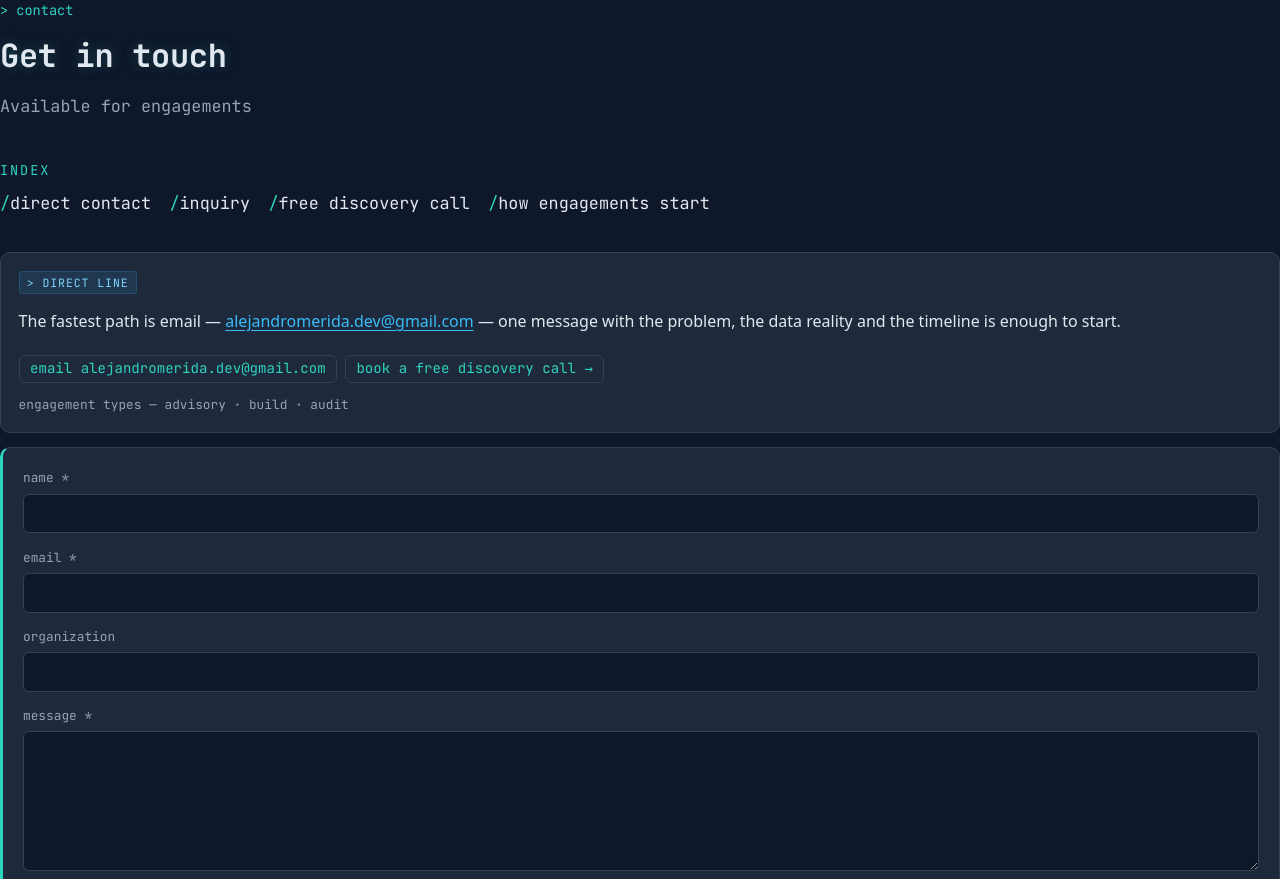
Scenario: Contact inquiry form › rejects an invalid email address and a too-short message
Type "Ada Lovelace" into the field labelled "name *" at point(641, 514), box [23, 494, 1259, 533]
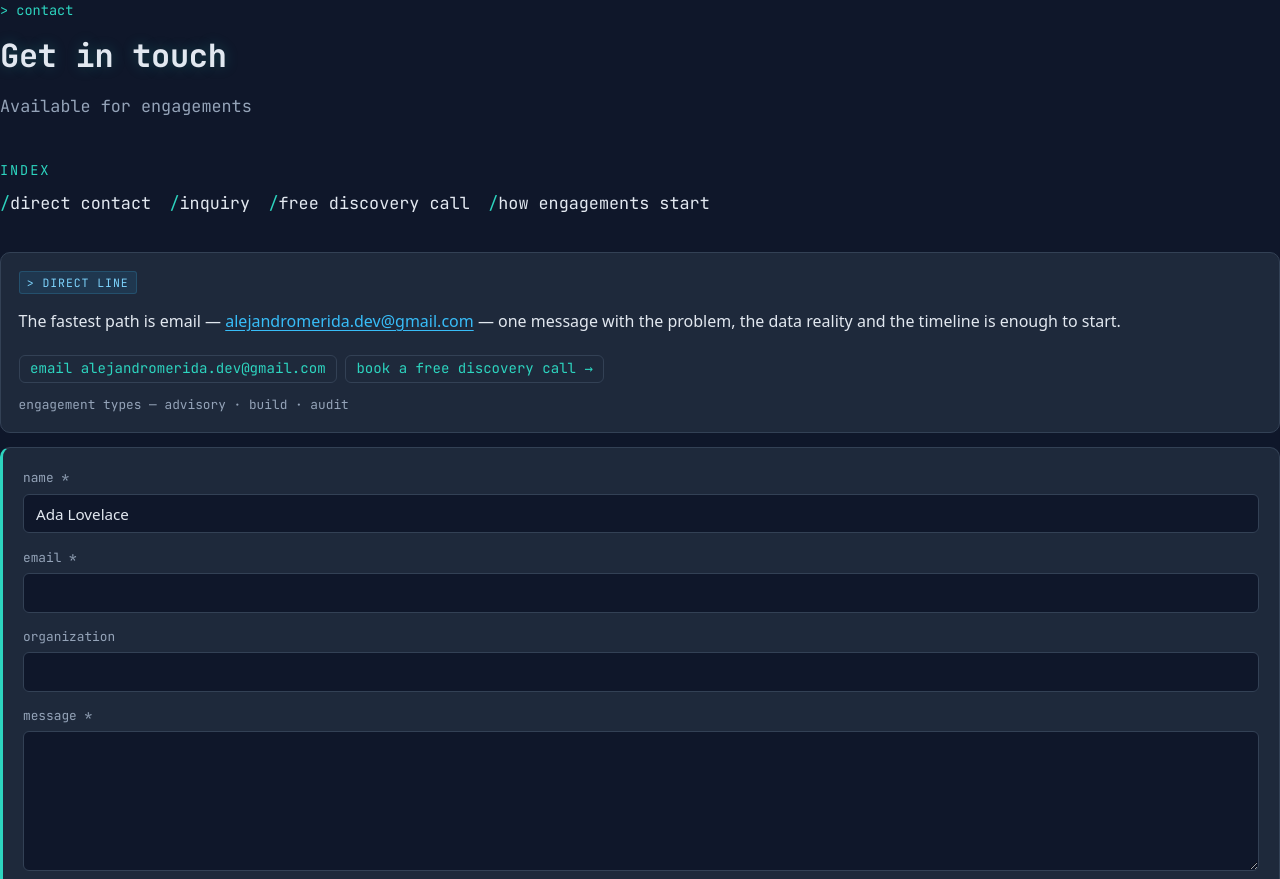
Type "not-an-email" into the field labelled "email *" at point(641, 593), box [23, 573, 1259, 613]
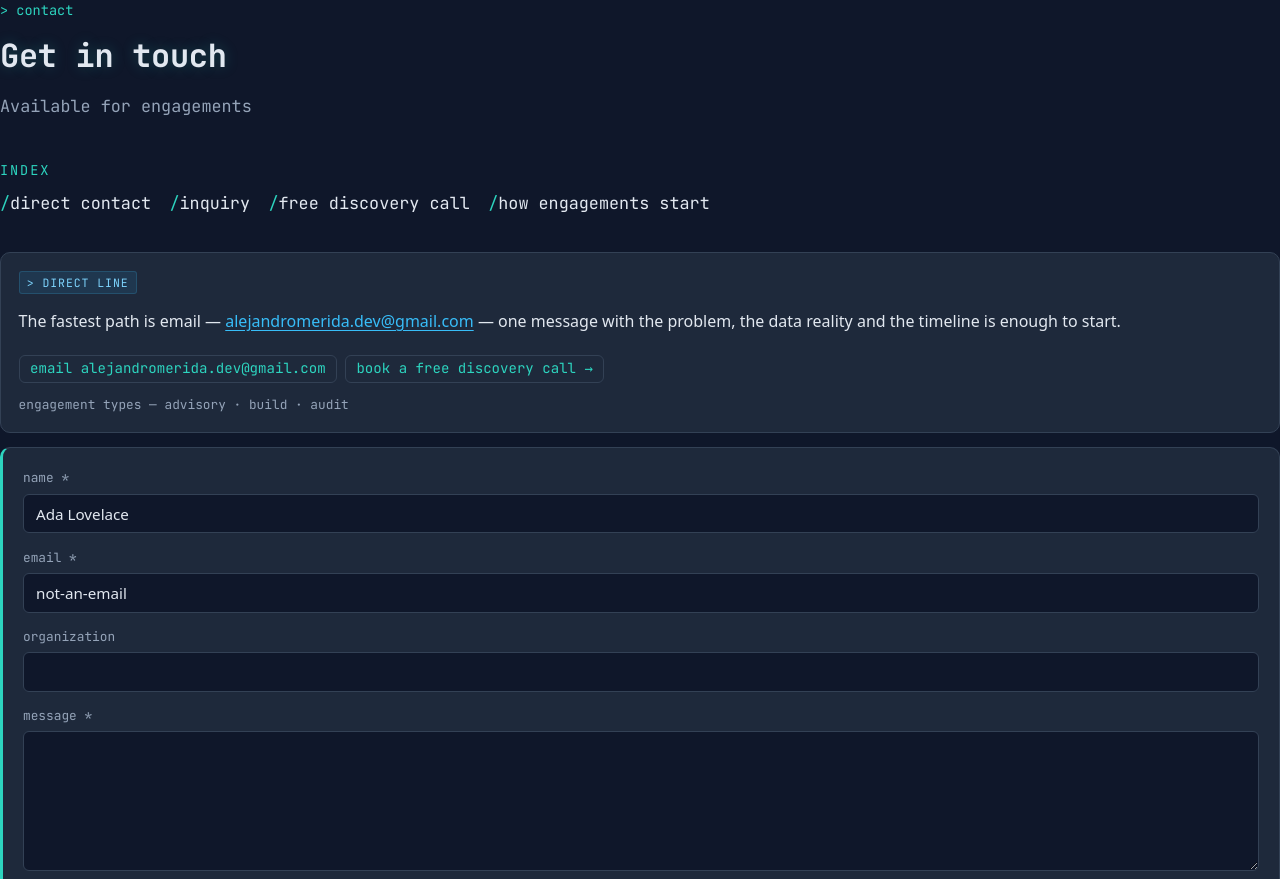
Type "too short" into the text box labelled "message *" at point(641, 801), box [23, 732, 1259, 871]
(page scrolled)
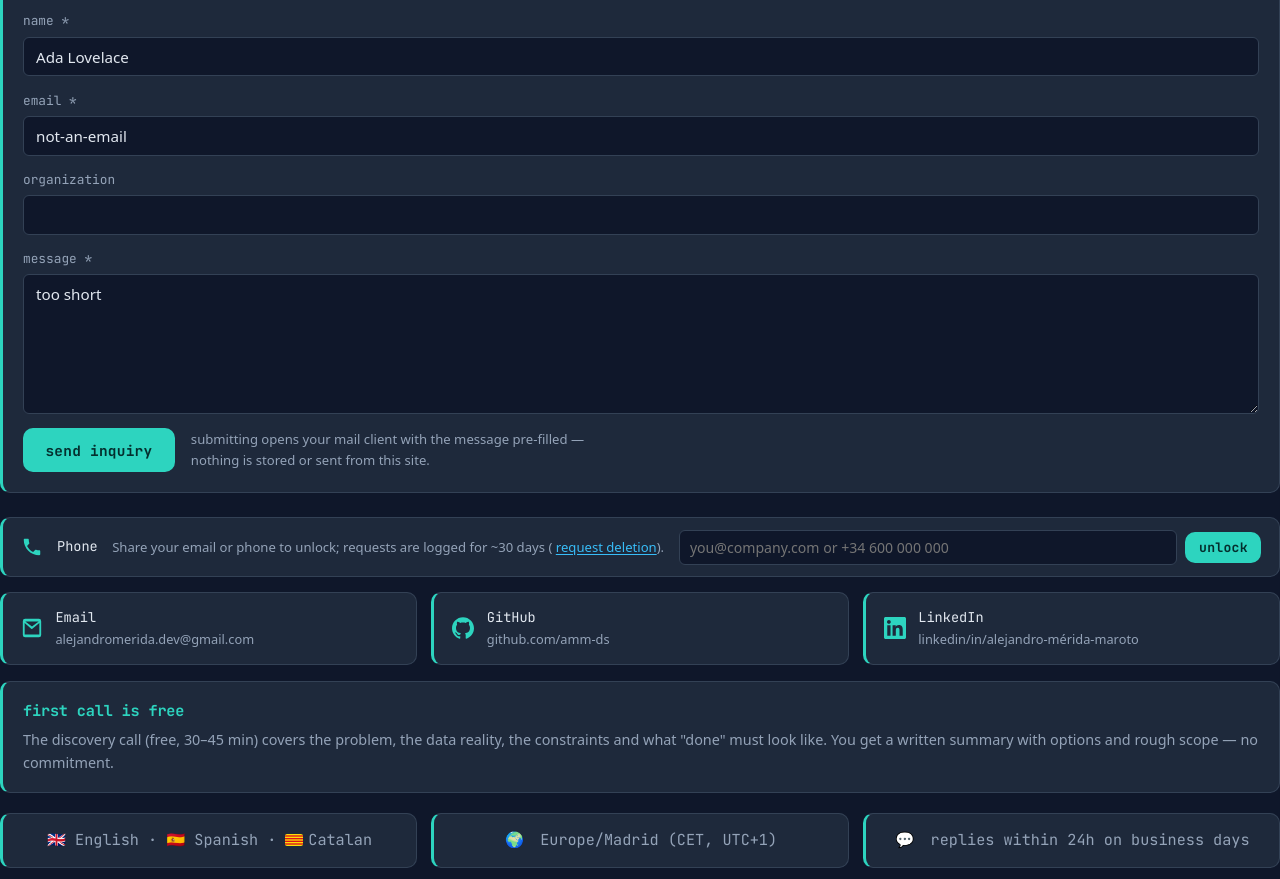
Click the button "send inquiry" at point(99, 450), box [23, 428, 175, 472]
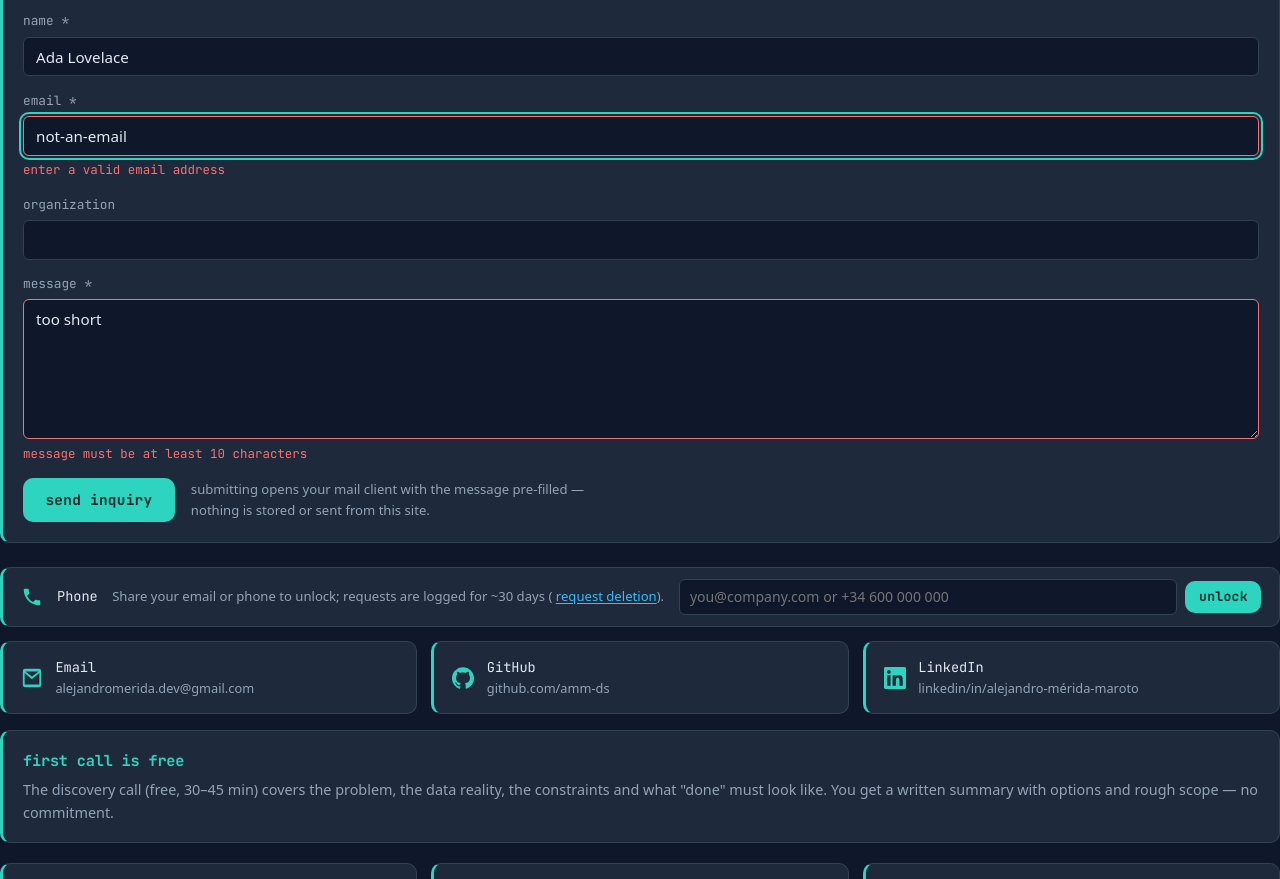
expect the text "enter a valid email address" is shown: met, box [23, 161, 225, 178]
expect the text "message must be at least 10 characters" is shown: met, box [23, 445, 307, 462]
